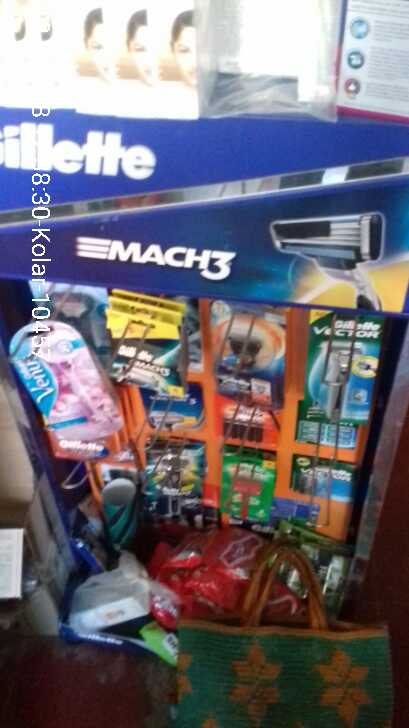gillette: (307, 309, 376, 426), (114, 295, 184, 390), (214, 310, 281, 404), (142, 388, 208, 423)
venus: (6, 327, 126, 455)
